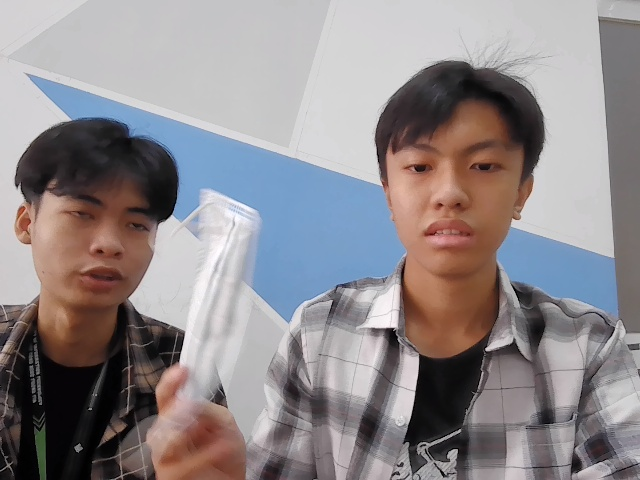human: (373, 59, 545, 282), (10, 117, 183, 314)
mask: (171, 183, 254, 408)
